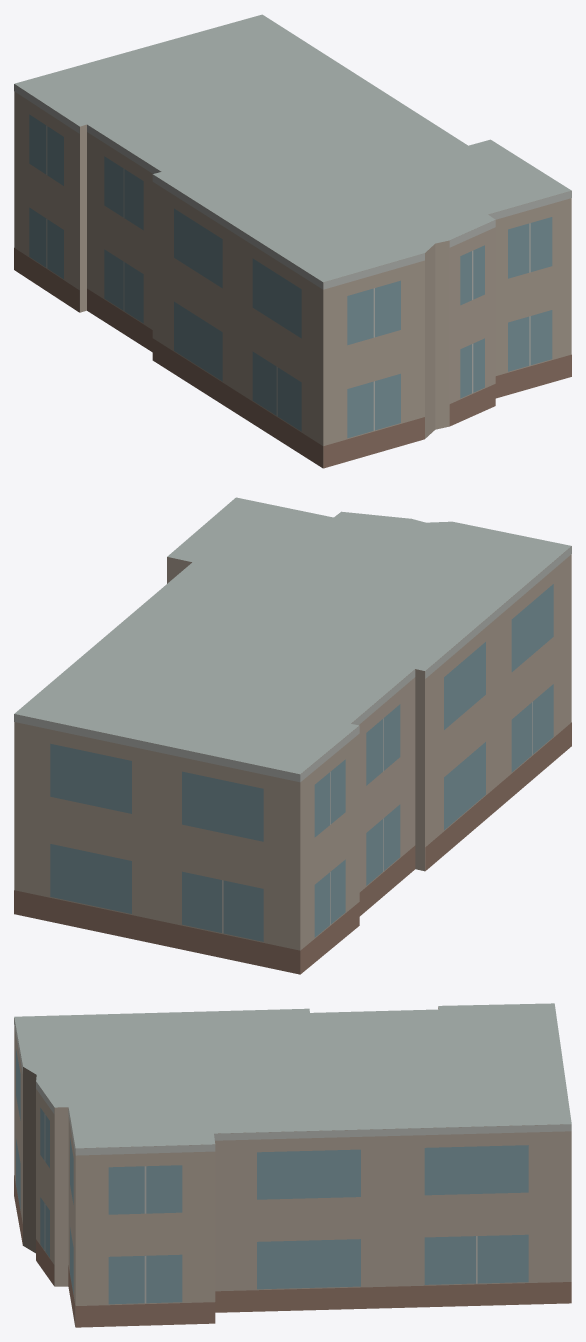
File: survey-upis-33039908.glb
The picture shows the model from 3 angles, top to bottom: view 1: azimuth 30°, elevation 25°; view 2: azimuth 150°, elevation 25°; view 3: azimuth 270°, elevation 25°; orthographic projection. The views are drawn at different scales.
Parts seen in each view (by area): view 1: survey-upis-33039908.tmp; view 2: survey-upis-33039908.tmp; view 3: survey-upis-33039908.tmp.
Boxes of the visible parts, x1,y1,x2,y2 form: survey-upis-33039908.tmp: (14, 14, 571, 468); survey-upis-33039908.tmp: (14, 497, 571, 974); survey-upis-33039908.tmp: (14, 1003, 571, 1327).
Size of the model in its own units: 10.6 by 6.1 by 17.22.
